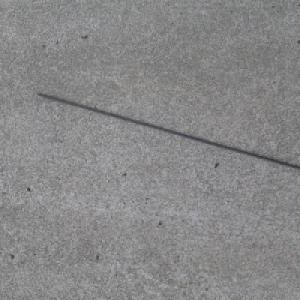LuggagePart: (34, 92, 300, 170)
